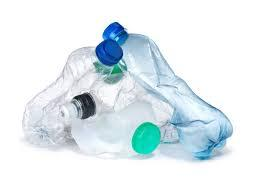plastic: (106, 24, 232, 158)
